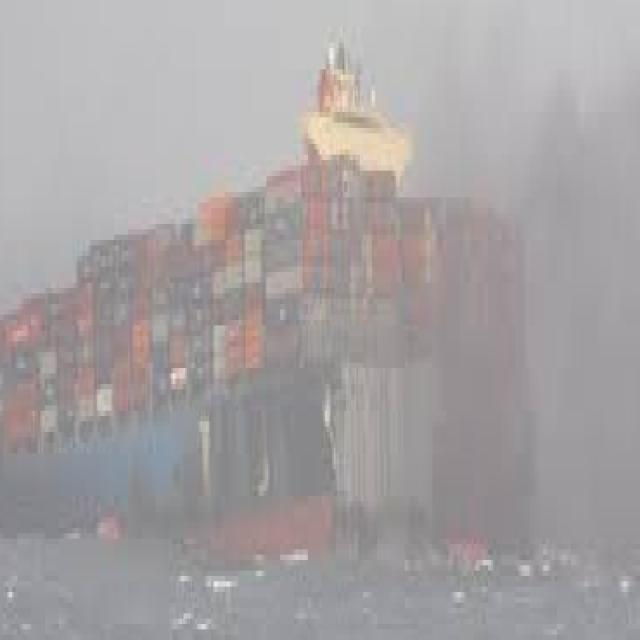cargoship: (0, 32, 533, 544)
